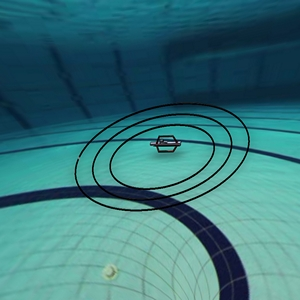circle: (62, 82, 259, 221)
submarine: (144, 125, 187, 163)
